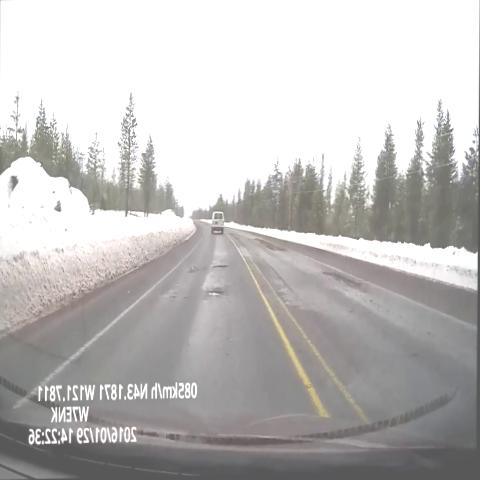pothole: (318, 264, 370, 311), (199, 285, 228, 317), (256, 232, 286, 261), (210, 258, 236, 282), (182, 259, 201, 282)
